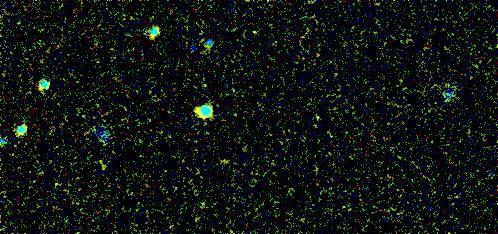star: (241, 17, 271, 47)
